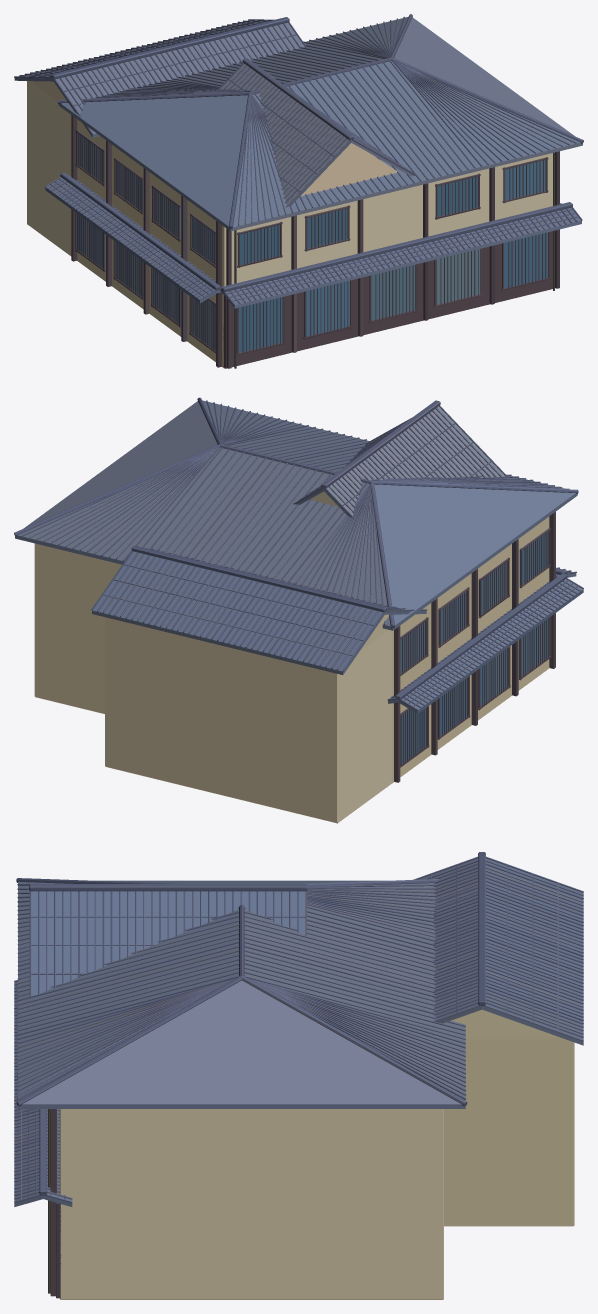
The model's file is ART_WestCorner.glb.
3 renders of one model, top to bottom at view 1: azimuth 30°, elevation 25°; view 2: azimuth 150°, elevation 25°; view 3: azimuth 270°, elevation 25°, orthographic. The views are drawn at different scales.
Visible parts, largest first — view 1: ART_WestCorner; view 2: ART_WestCorner; view 3: ART_WestCorner.
Part boxes in pixels (x1=…): ART_WestCorner: x1=14, y1=14, x2=583, y2=368; ART_WestCorner: x1=14, y1=397, x2=583, y2=823; ART_WestCorner: x1=14, y1=852, x2=583, y2=1299.
Size of the model in its own units: 15.42 by 8.44 by 15.72.
